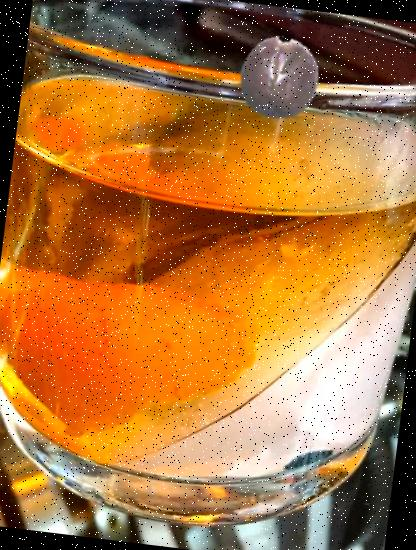Passion: (232, 30, 328, 126)
